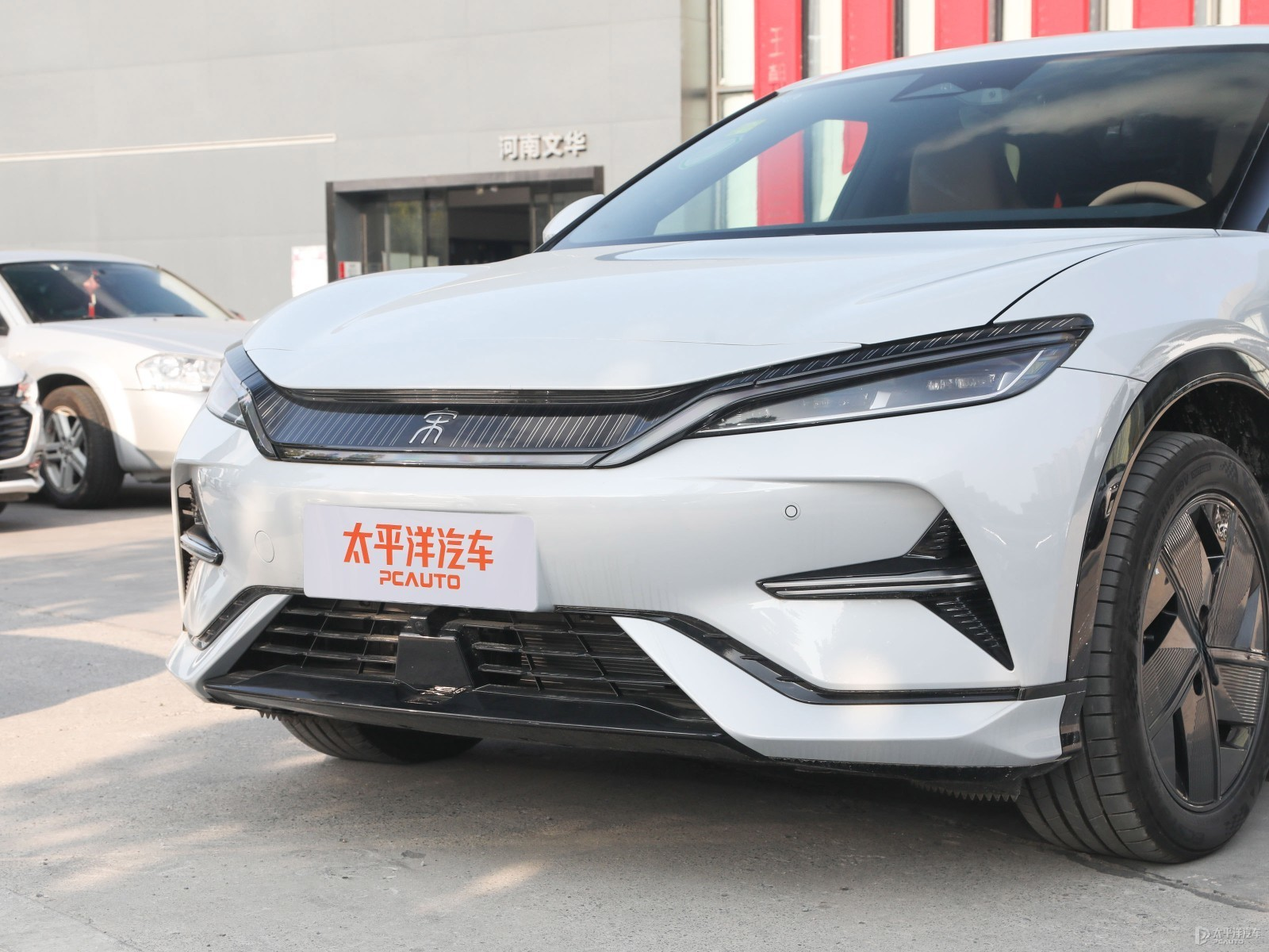BYD Song: (409, 408, 458, 443)
